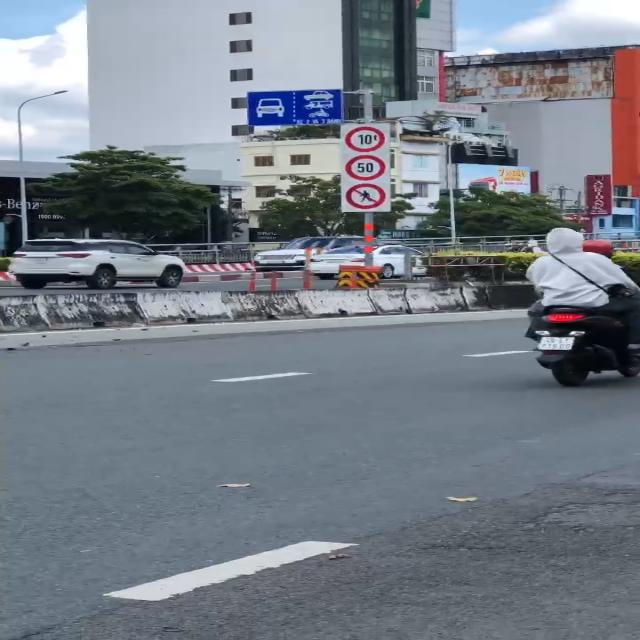Bien bao cam nguoi di bo: (343, 182, 391, 211)
Bien bao toc do toi da cho phep: (343, 153, 389, 182)
